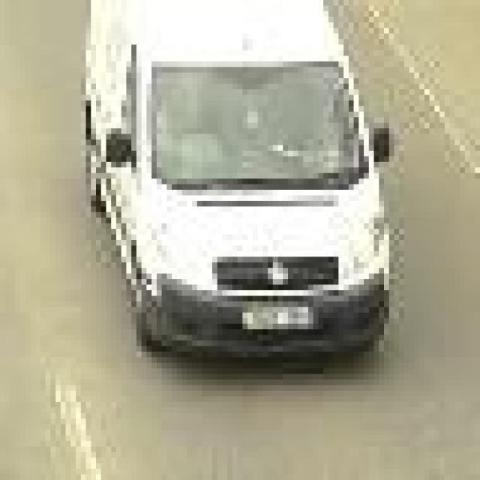van: (83, 0, 392, 357)
